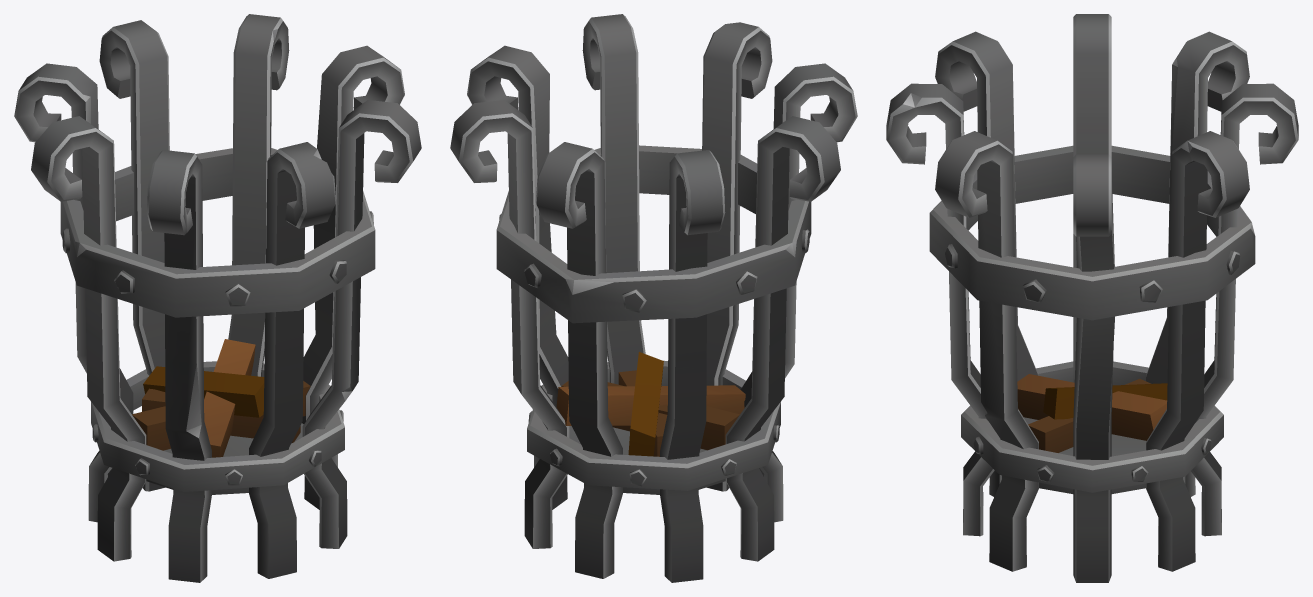
File: FirePlace_1_2_A.glb
3 views of the same model, side by side, from view 1: azimuth 30°, elevation 25°; view 2: azimuth 150°, elevation 25°; view 3: azimuth 270°, elevation 25° (orthographic).
Parts seen in each view (by area): view 1: FirePlace_1_2_A; view 2: FirePlace_1_2_A; view 3: FirePlace_1_2_A.
Part boxes in pixels (box(x1,y1,x2,y2)): FirePlace_1_2_A: box(14, 14, 421, 582); FirePlace_1_2_A: box(450, 14, 857, 582); FirePlace_1_2_A: box(886, 14, 1298, 582).
Bounding box in the file's own units: 0.7082 × 0.8289 × 0.7082.
2 materials, 2 textured.
